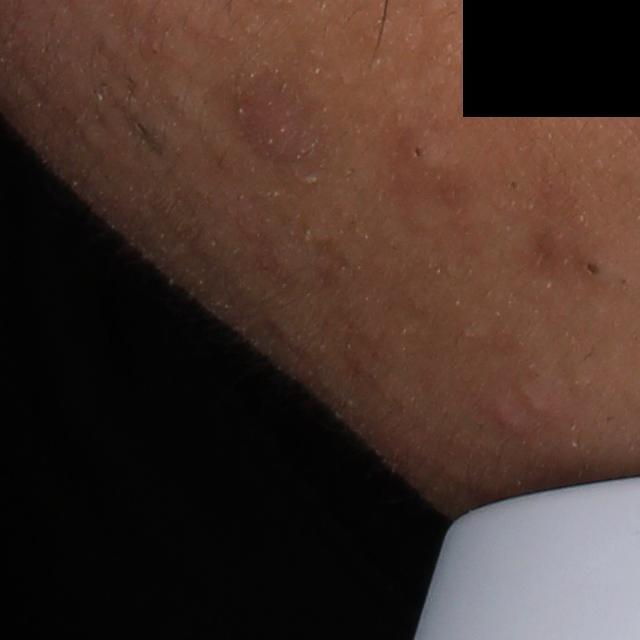comedo: (396, 123, 449, 177), (575, 245, 617, 284)
papule: (226, 87, 324, 183), (492, 405, 528, 432)
